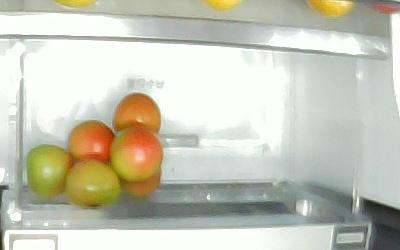tomato: (110, 128, 163, 181), (66, 160, 121, 210), (26, 144, 70, 197), (112, 93, 161, 135), (69, 120, 112, 163), (119, 167, 161, 197)
